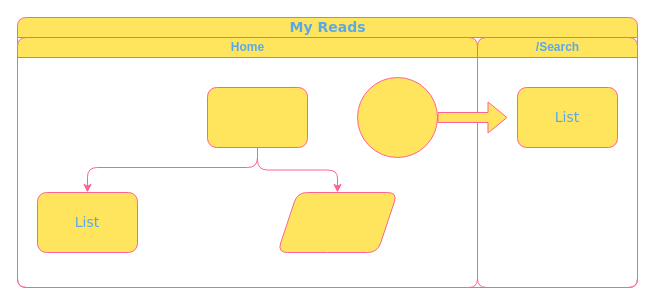
This 655x305 diagram has some shape labels left out. Each missing label, with the centre of its shape:
"button" goes at point (397, 117).
"Shelf" goes at point (257, 117).
"shelf title" goes at point (337, 222).
